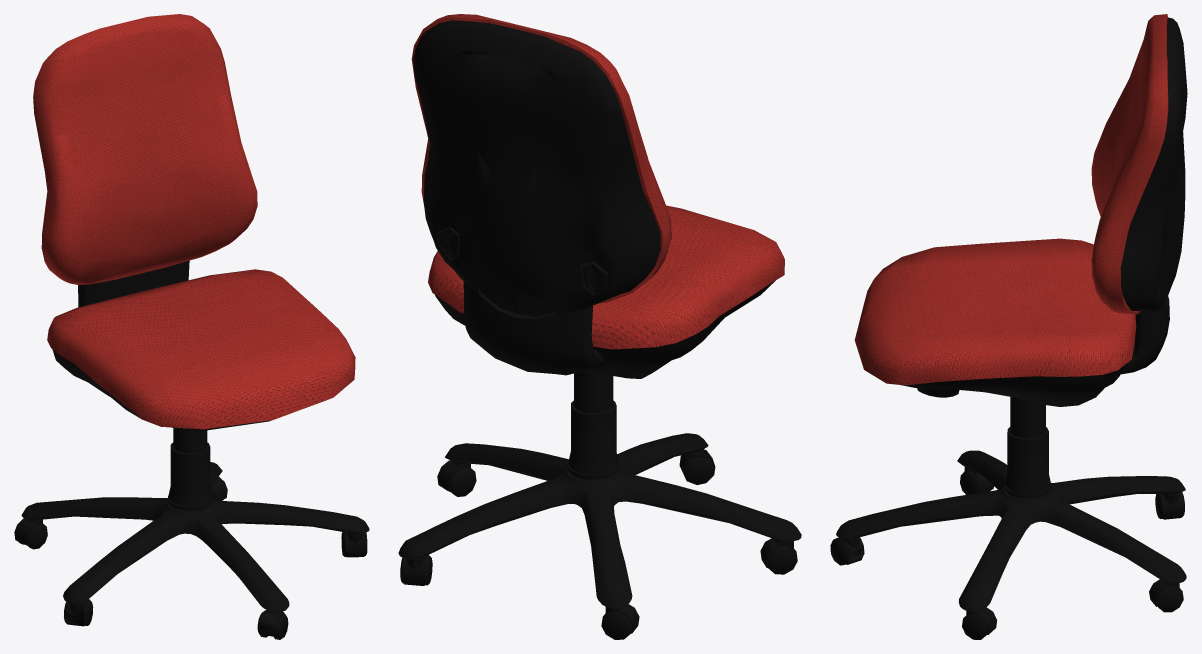
The model's file is Chair.FBX.
3 renders of one model, left to right at view 1: azimuth 30°, elevation 25°; view 2: azimuth 150°, elevation 25°; view 3: azimuth 270°, elevation 25°, orthographic. The views are drawn at different scales.
Visible parts, largest first — view 1: chair; view 2: chair; view 3: chair.
Boxes of the visible parts, left/top/right/bottom form: chair: left=14, top=14, right=369, bottom=639; chair: left=398, top=14, right=801, bottom=639; chair: left=830, top=14, right=1187, bottom=639.
Bounding box in the file's own units: 63.86 × 100 × 61.58.
2 materials, 2 textured.
